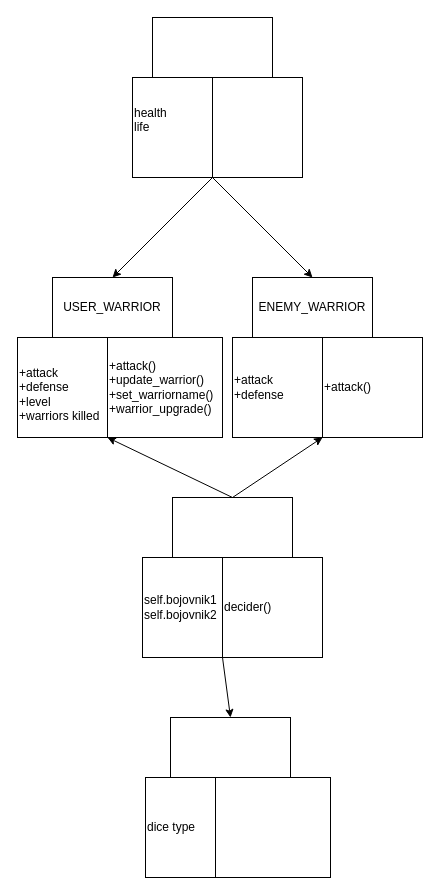
Some shapes in this 440 by 895 pixel diagram are drawn without their labels. The centre of each missing label's shape, as x and y in pixels:
"ARENA" belongs at pixel 232 527.
"CHARACTER" belongs at pixel 212 47.
"DICE" belongs at pixel 230 747.
"throw_dice()" belongs at pixel 272 827.
